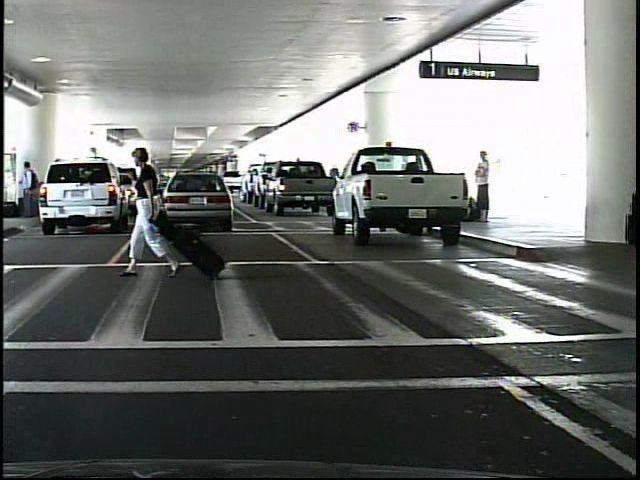person: (130, 147, 189, 282), (468, 152, 503, 224), (21, 159, 40, 220)
